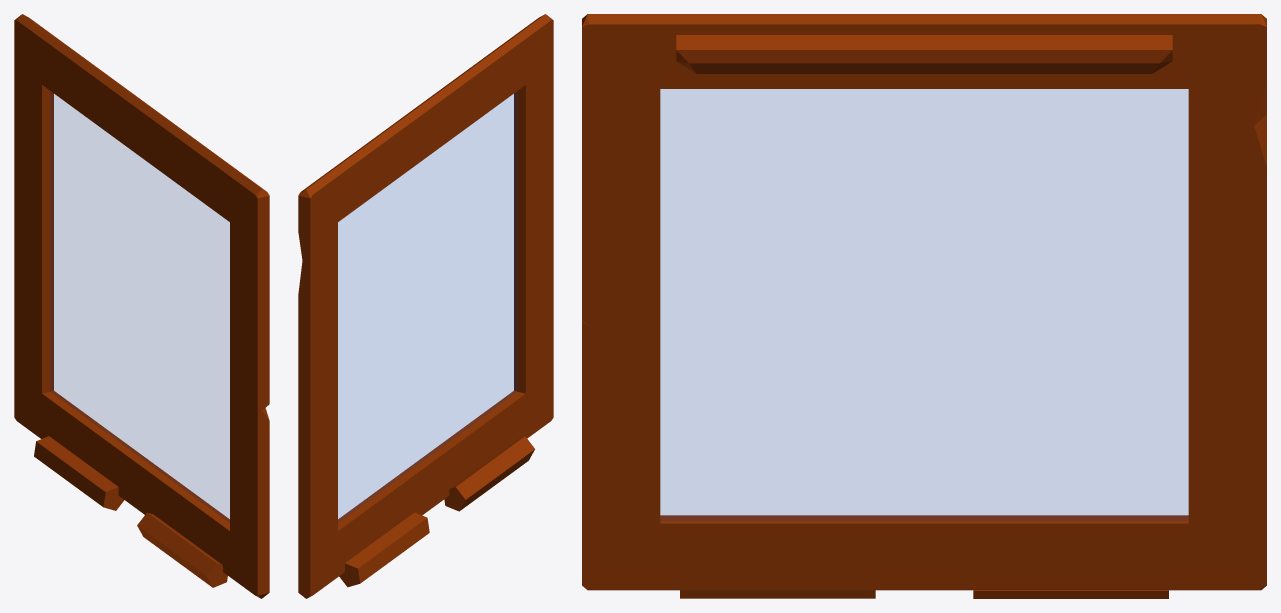
Rendered from SM_StamperDoor.FBX.
3 views of the same model, side by side, from view 1: azimuth 30°, elevation 25°; view 2: azimuth 150°, elevation 25°; view 3: azimuth 270°, elevation 25° (orthographic). The views are drawn at different scales.
Parts seen in each view (by area): view 1: StamperDoor; view 2: StamperDoor; view 3: StamperDoor.
Part boxes in pixels (bbox=[...]): StamperDoor: bbox=[14, 14, 269, 598]; StamperDoor: bbox=[298, 14, 553, 598]; StamperDoor: bbox=[582, 14, 1266, 598].
Size of the model in its own units: 6.5 by 66.64 by 70.
